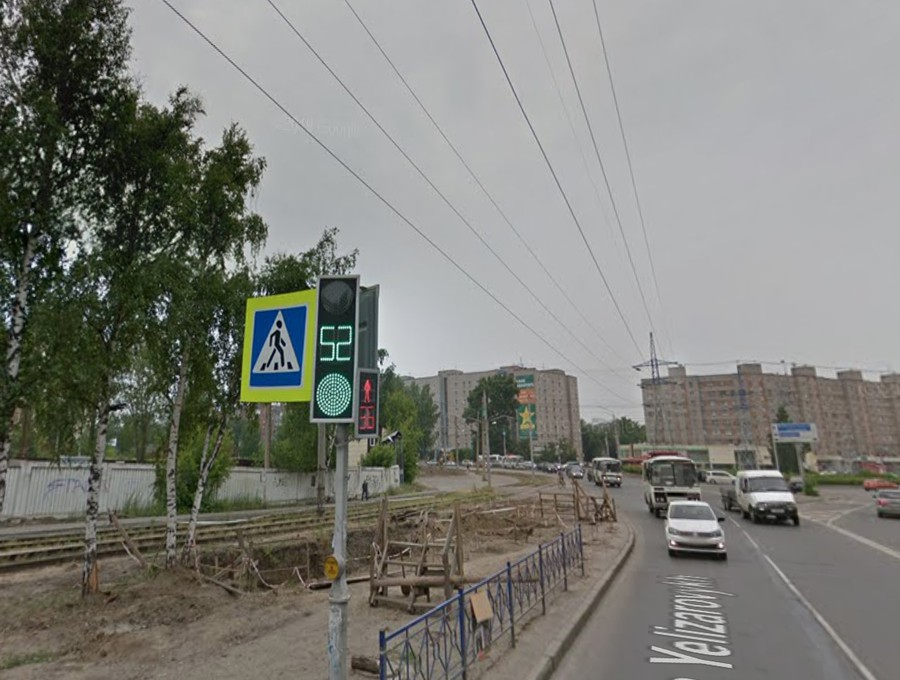Traffic Light-red: (360, 364, 380, 434)
